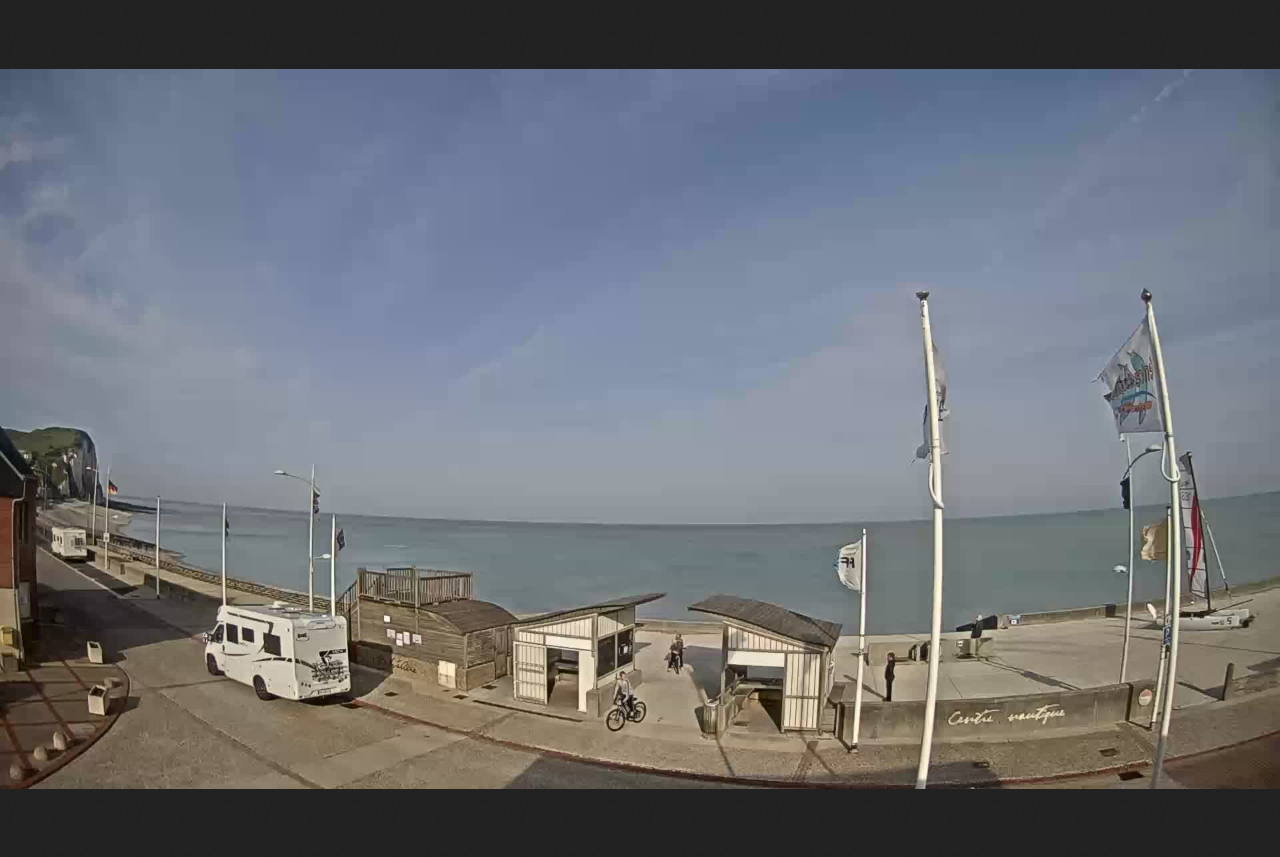yes: (1092, 313, 1167, 437), (831, 536, 864, 598), (1139, 517, 1167, 563), (106, 478, 117, 494)
